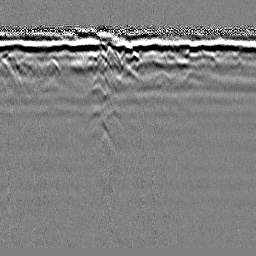cavity: (119, 42, 139, 60)
